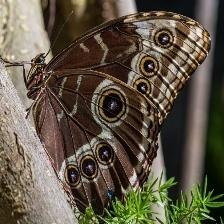butterfly: (26, 12, 211, 214)
